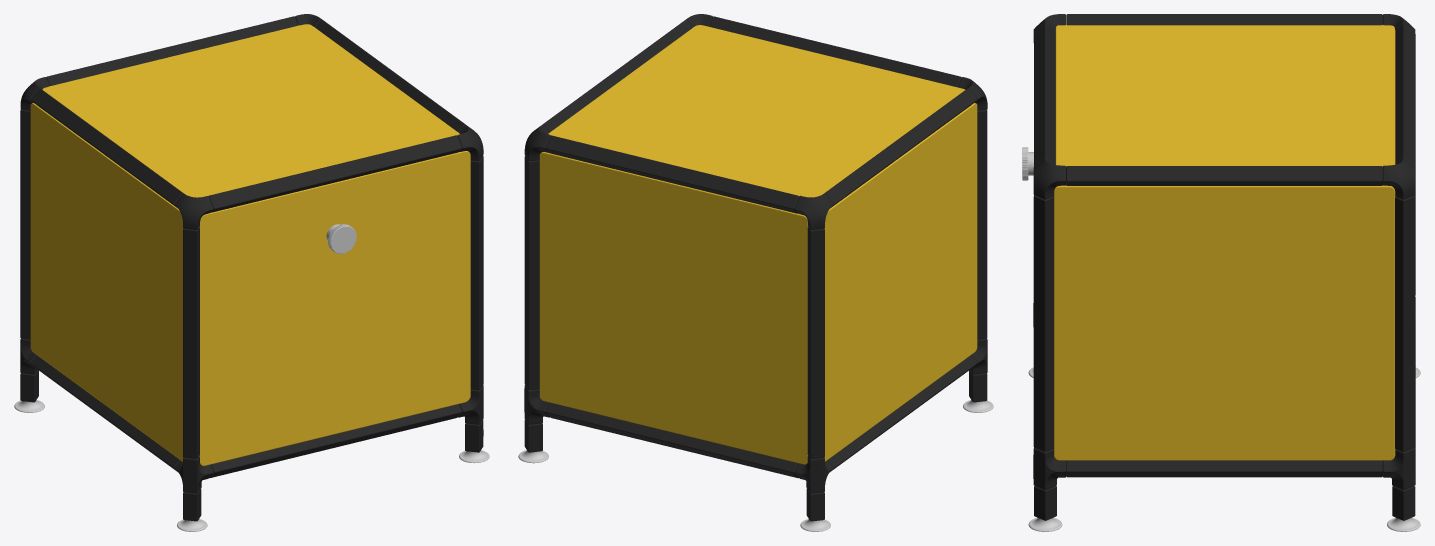
The picture shows the model from 3 angles, left to right: view 1: azimuth 30°, elevation 25°; view 2: azimuth 150°, elevation 25°; view 3: azimuth 270°, elevation 25°; orthographic projection. The views are drawn at different scales.
Visible parts, largest first — view 1: 374x374x329; view 2: 374x374x329; view 3: 374x374x329.
Part boxes in pixels (left/top/right/bottom): 374x374x329: left=14, top=14, right=489, bottom=531; 374x374x329: left=518, top=14, right=993, bottom=531; 374x374x329: left=1022, top=14, right=1420, bottom=531.
Bounding box in the file's own units: 0.4639 × 0.4683 × 0.4707.
